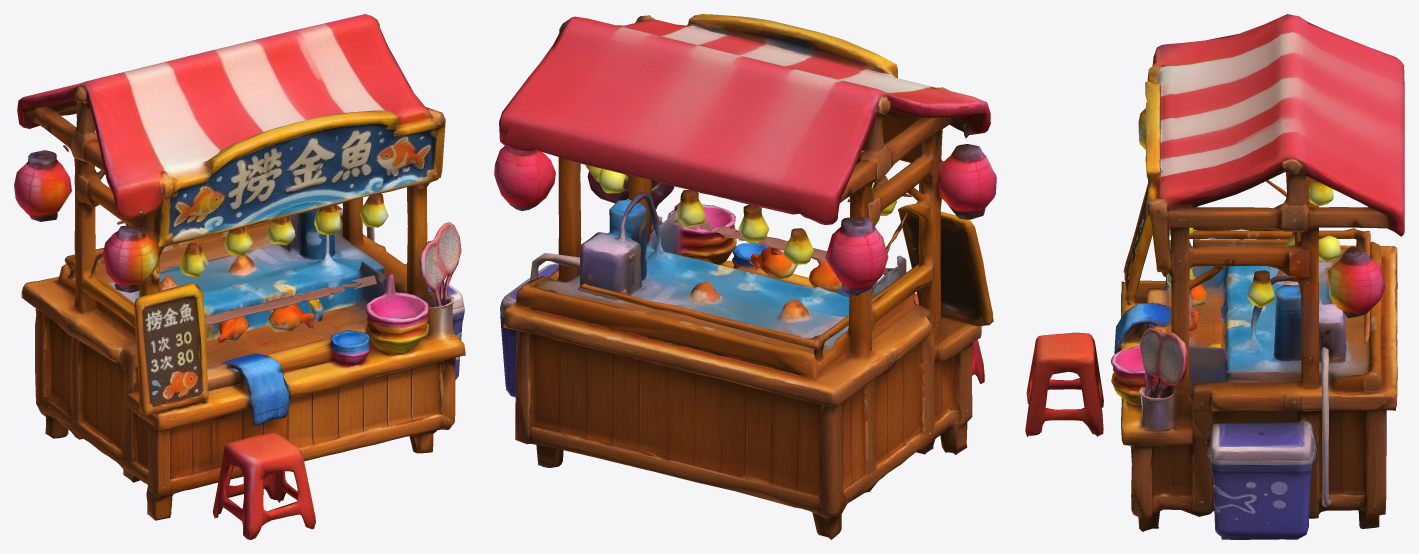
Rendered from stall-fish.glb.
The picture shows the model from 3 angles, left to right: view 1: azimuth 30°, elevation 25°; view 2: azimuth 150°, elevation 25°; view 3: azimuth 270°, elevation 25°; orthographic projection. The views are drawn at different scales.
Parts seen in each view (by area): view 1: tripo_node_93a7506a-9250-4ad6-b736-ddeeac24312f; view 2: tripo_node_93a7506a-9250-4ad6-b736-ddeeac24312f; view 3: tripo_node_93a7506a-9250-4ad6-b736-ddeeac24312f.
Boxes of the visible parts, <box> form: tripo_node_93a7506a-9250-4ad6-b736-ddeeac24312f: <box>14,14,465,539</box>; tripo_node_93a7506a-9250-4ad6-b736-ddeeac24312f: <box>494,14,996,539</box>; tripo_node_93a7506a-9250-4ad6-b736-ddeeac24312f: <box>1025,14,1404,539</box>.
Bounding box in the file's own units: 0.9945 × 0.9449 × 0.8436.
Materials: 1 (1 with a texture image).
